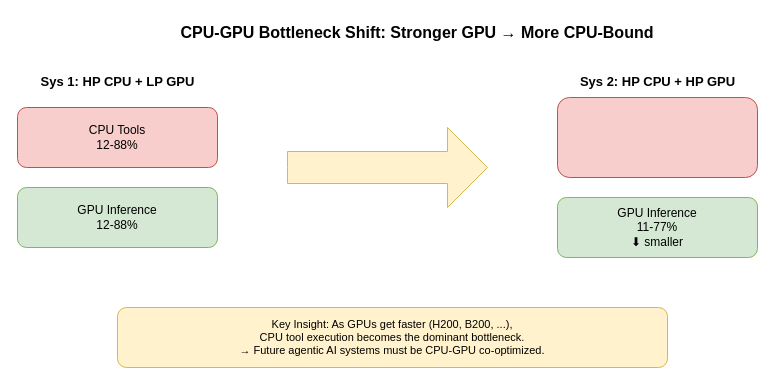
Some shapes in this 775 by 385 pixel diagram are drawn without their labels. Each missing label, with the centre of its shape:
CPU Tools 23-89% ⬆ BIGGER: point (657, 137)
GPU upgrade RTX6000Pro → H200: point (387, 167)
